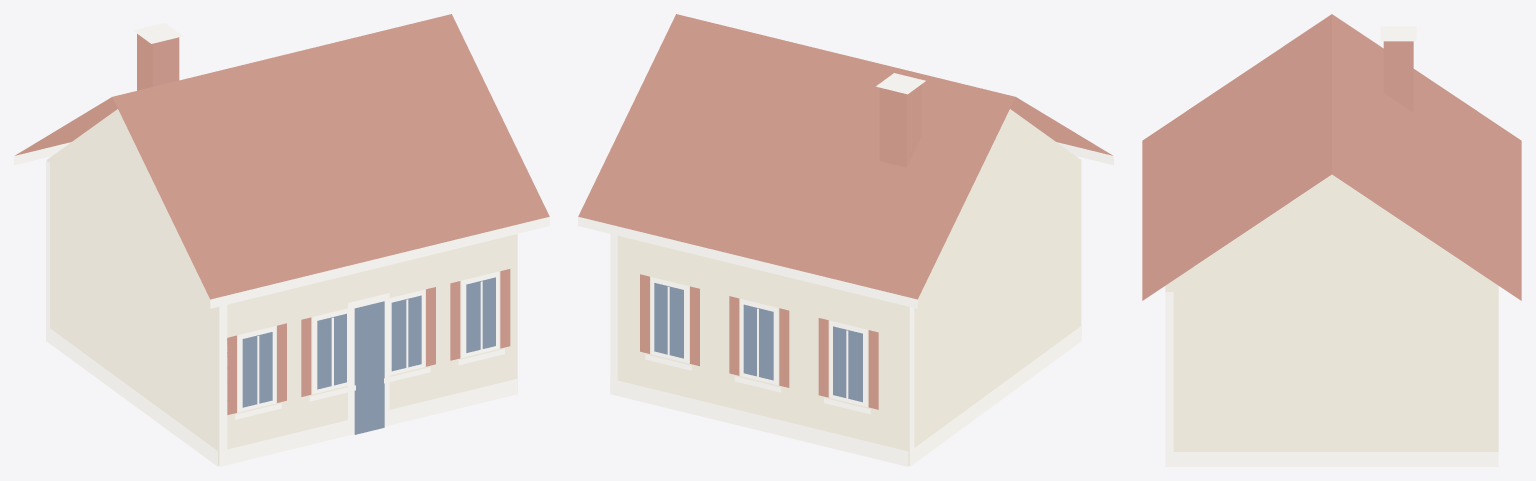
Rendered from Blender_House_Gable_2.glb.
3 renders of one model, left to right at view 1: azimuth 30°, elevation 25°; view 2: azimuth 150°, elevation 25°; view 3: azimuth 270°, elevation 25°, orthographic. The views are drawn at different scales.
Parts seen in each view (by area): view 1: Blender_House_Gable_2; view 2: Blender_House_Gable_2; view 3: Blender_House_Gable_2.
Part boxes in pixels (x1,y1,x2,y2): Blender_House_Gable_2: (14,14,549,466); Blender_House_Gable_2: (578,14,1113,466); Blender_House_Gable_2: (1142,14,1521,466).
Size of the model in its own units: 1.14 by 1.06 by 1.14.
